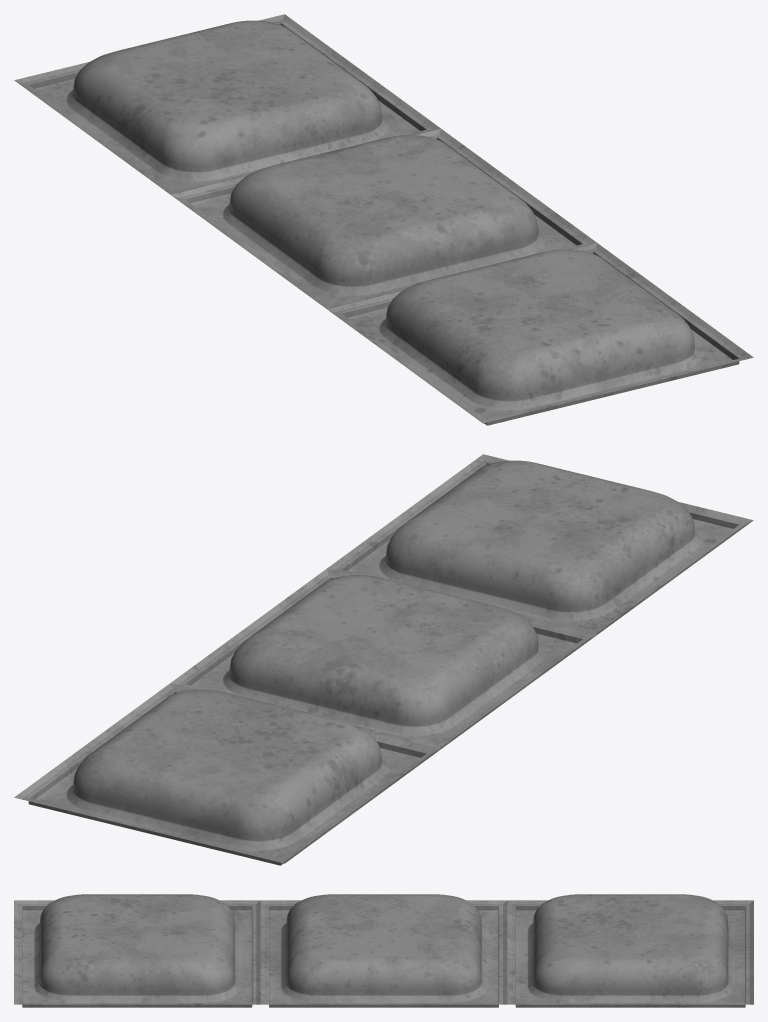
The model's file is SM_Ceiling_17.fbx.
3 renders of one model, top to bottom at view 1: azimuth 30°, elevation 25°; view 2: azimuth 150°, elevation 25°; view 3: azimuth 270°, elevation 25°, orthographic. The views are drawn at different scales.
Visible parts, largest first — view 1: SM_Ceiling_17; view 2: SM_Ceiling_17; view 3: SM_Ceiling_17.
Boxes of the visible parts, x1,y1,x2,y2 form: SM_Ceiling_17: (14, 14, 753, 425); SM_Ceiling_17: (14, 454, 753, 865); SM_Ceiling_17: (14, 894, 753, 1007).
Bounding box in the file's own units: 100 × 14.2 × 300.
